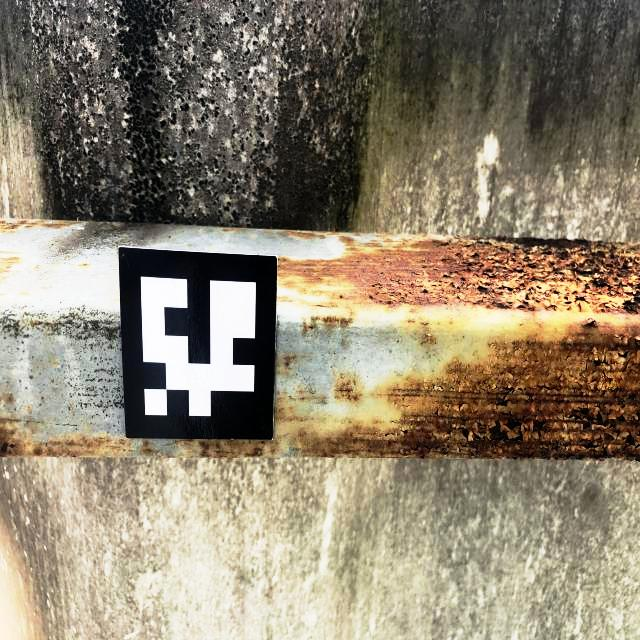Corrosion: (173, 231, 640, 464), (0, 417, 133, 458), (0, 219, 84, 235), (0, 249, 27, 288), (141, 440, 196, 458), (280, 355, 296, 368), (29, 263, 42, 272), (74, 262, 90, 269), (39, 284, 52, 291), (6, 394, 13, 403), (20, 291, 32, 296), (0, 292, 8, 298), (41, 396, 44, 402)
